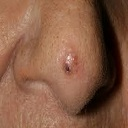Carcinoma: (59, 50, 78, 79)
